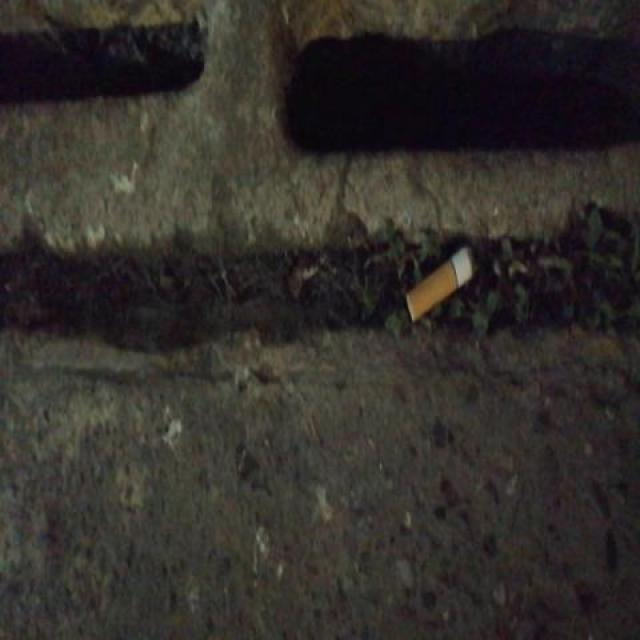non-organic waste: (398, 240, 482, 332)
